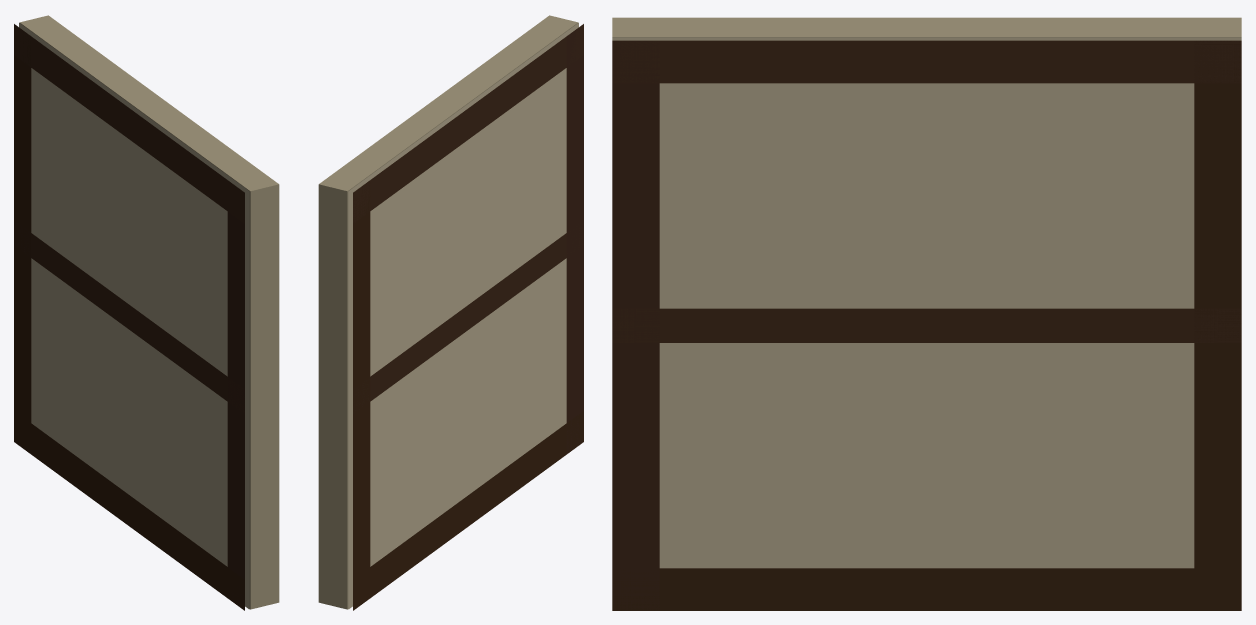
The model's file is wall-halftimber.glb.
The picture shows the model from 3 angles, left to right: view 1: azimuth 30°, elevation 25°; view 2: azimuth 150°, elevation 25°; view 3: azimuth 270°, elevation 25°; orthographic projection. The views are drawn at different scales.
Parts seen in each view (by area): view 1: wall-halftimber; view 2: wall-halftimber; view 3: wall-halftimber.
Boxes of the visible parts, x1,y1,x2,y2 form: wall-halftimber: [14, 15, 279, 610]; wall-halftimber: [318, 15, 583, 610]; wall-halftimber: [612, 17, 1241, 610].
Size of the model in its own units: 0.1 by 1 by 1.
